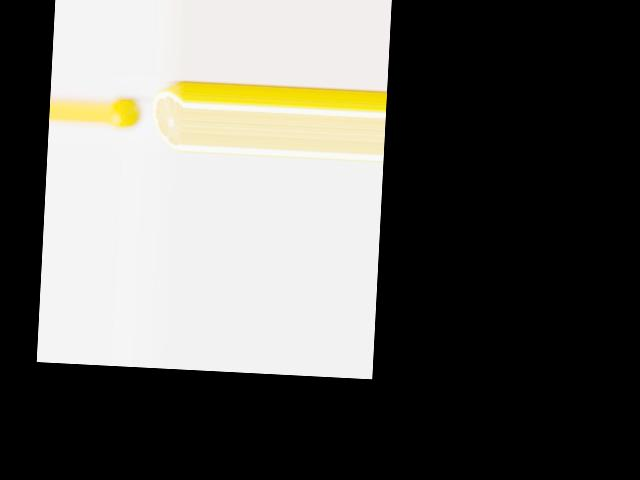lemon: (107, 99, 140, 128)
